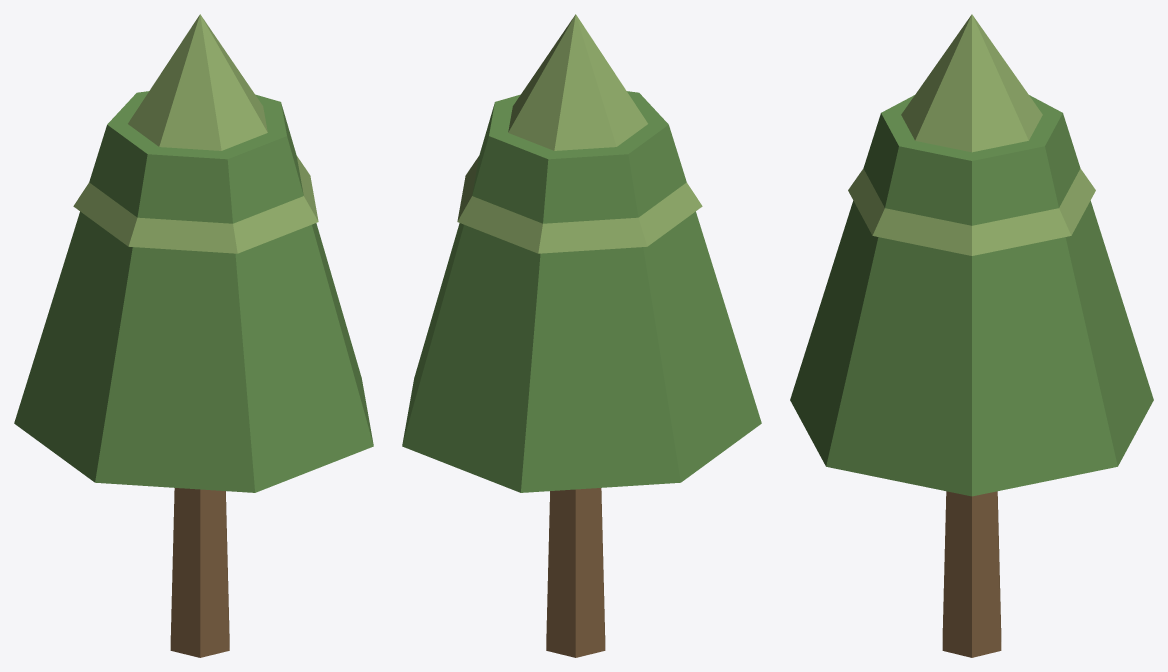
File: tree_deciduous_01.glb
3 renders of one model, left to right at view 1: azimuth 30°, elevation 25°; view 2: azimuth 150°, elevation 25°; view 3: azimuth 270°, elevation 25°, orthographic.
Bounding box in the file's own units: 2.09 × 4.09 × 2.14.
